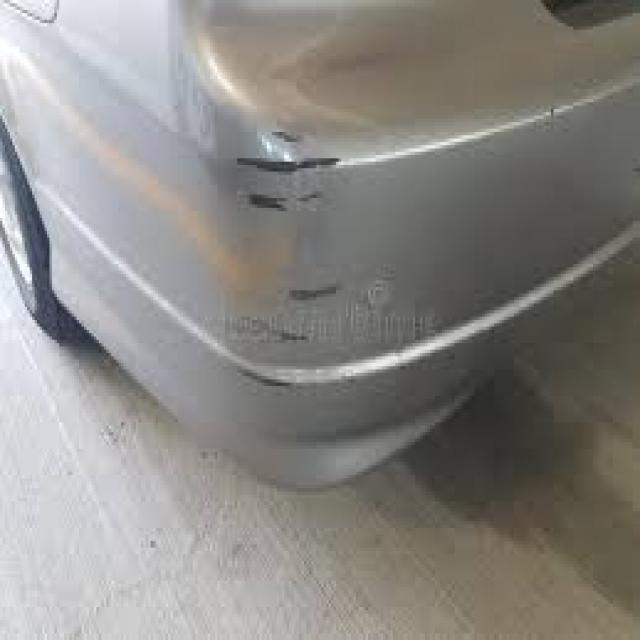minor: (219, 109, 345, 371)
